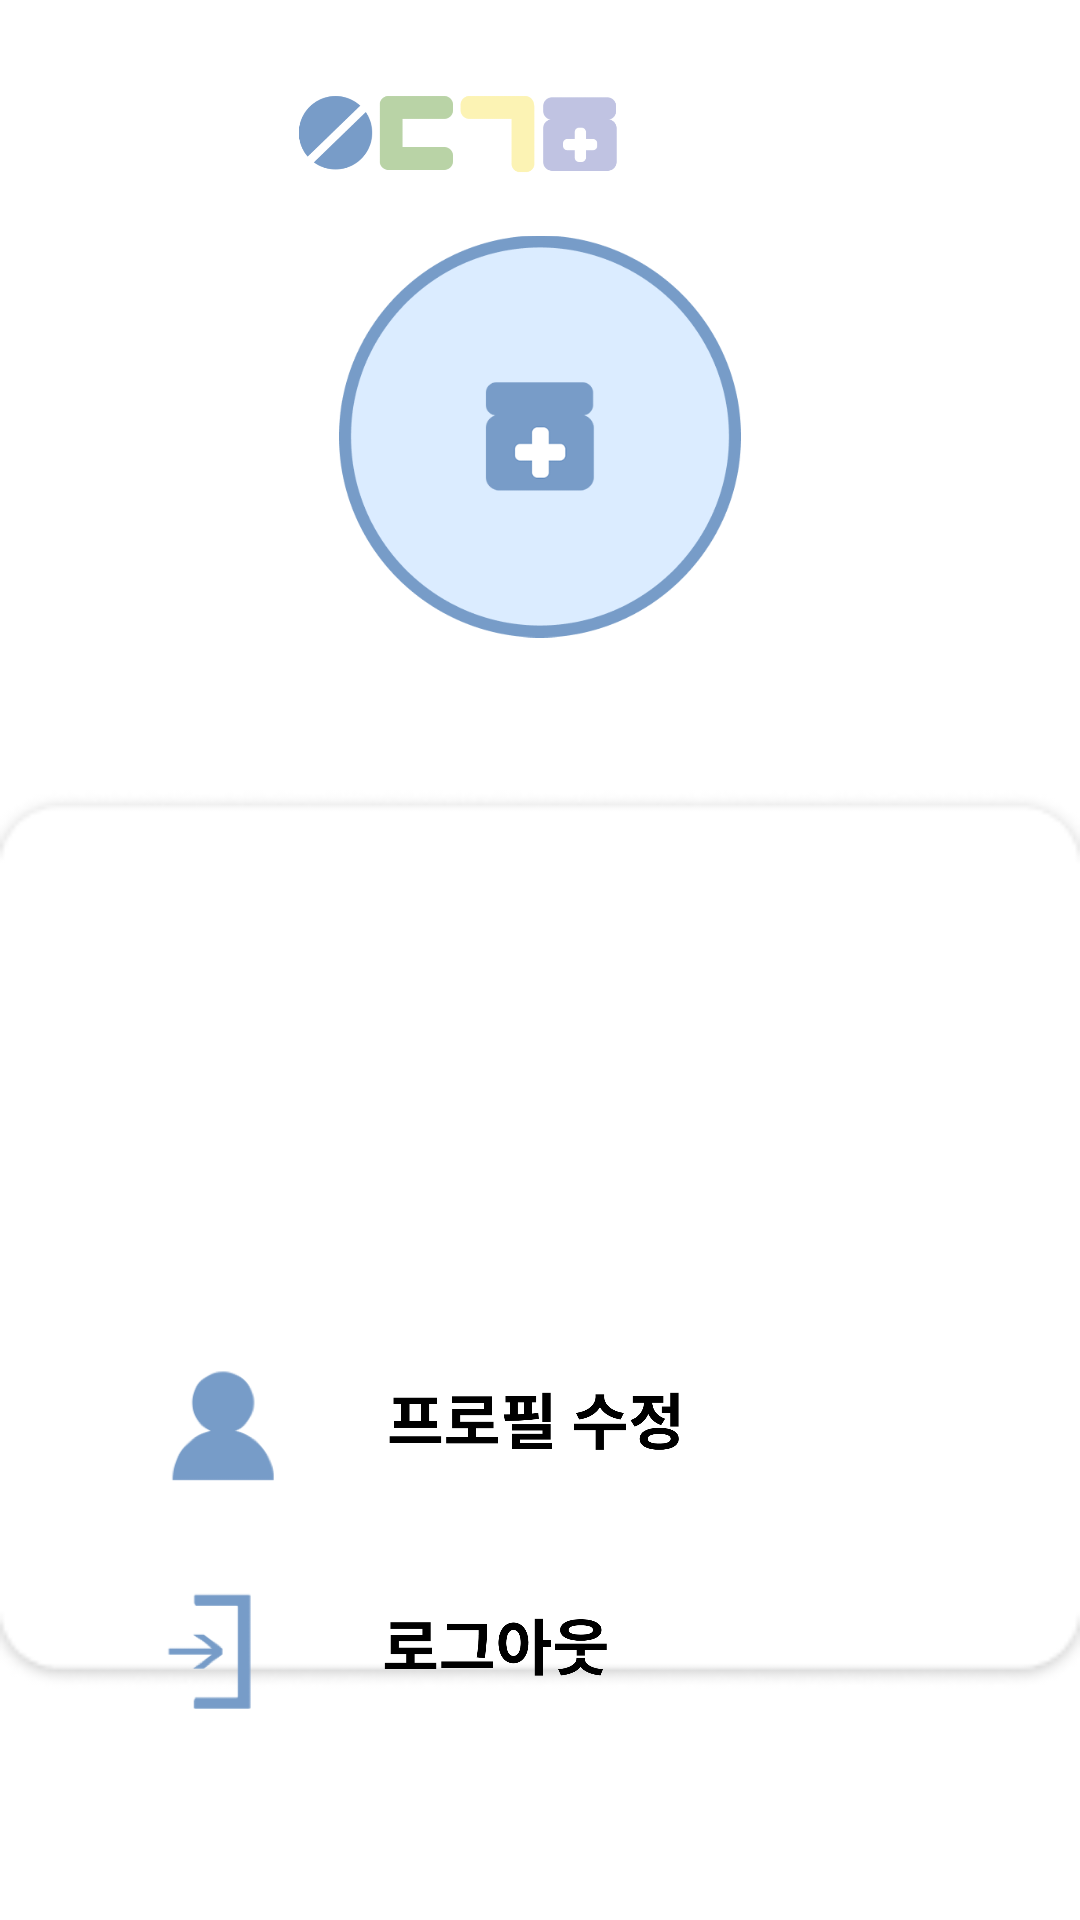

Named icons in this screenshot (1080 × 1920) and their centers, [x,y]:
title: [458,134]
